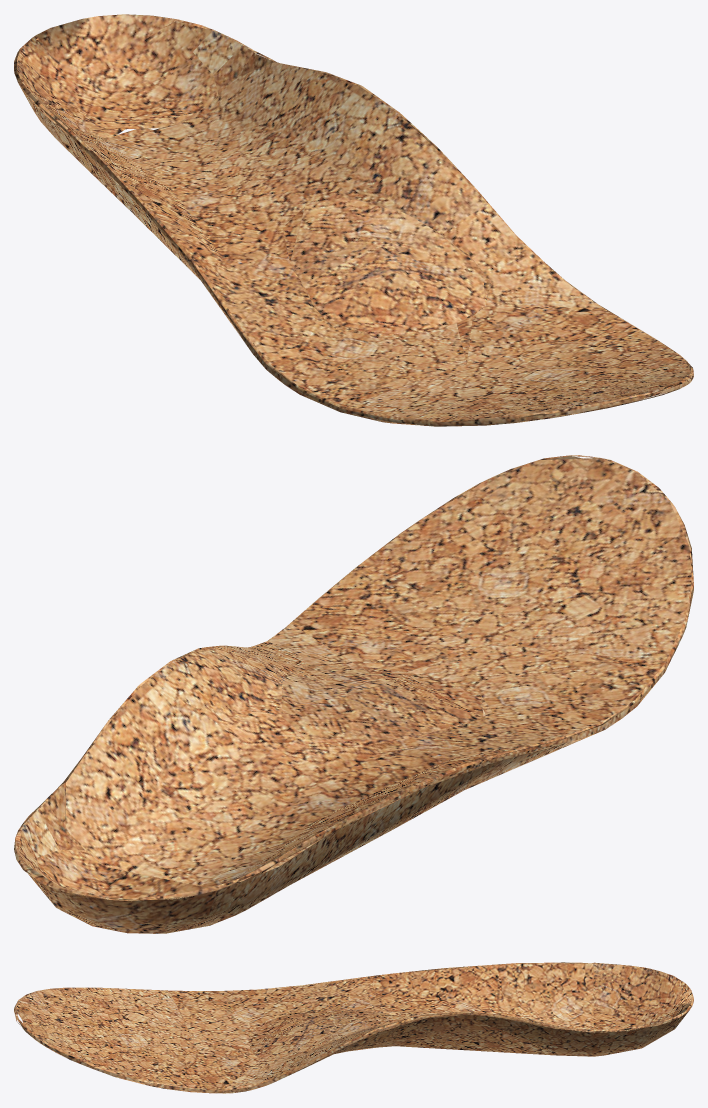
3 views of the same model, one above another, from view 1: azimuth 30°, elevation 25°; view 2: azimuth 150°, elevation 25°; view 3: azimuth 270°, elevation 25° (orthographic). The views are drawn at different scales.
Parts seen in each view (by area): view 1: ENV; view 2: ENV; view 3: ENV.
Part boxes in pixels (x1,y1,x2,y2): ENV: [14, 14, 693, 426]; ENV: [14, 455, 693, 933]; ENV: [14, 962, 693, 1093].
Size of the model in its own units: 9.31 by 2.9 by 26.98.
1 material, 1 textured.
